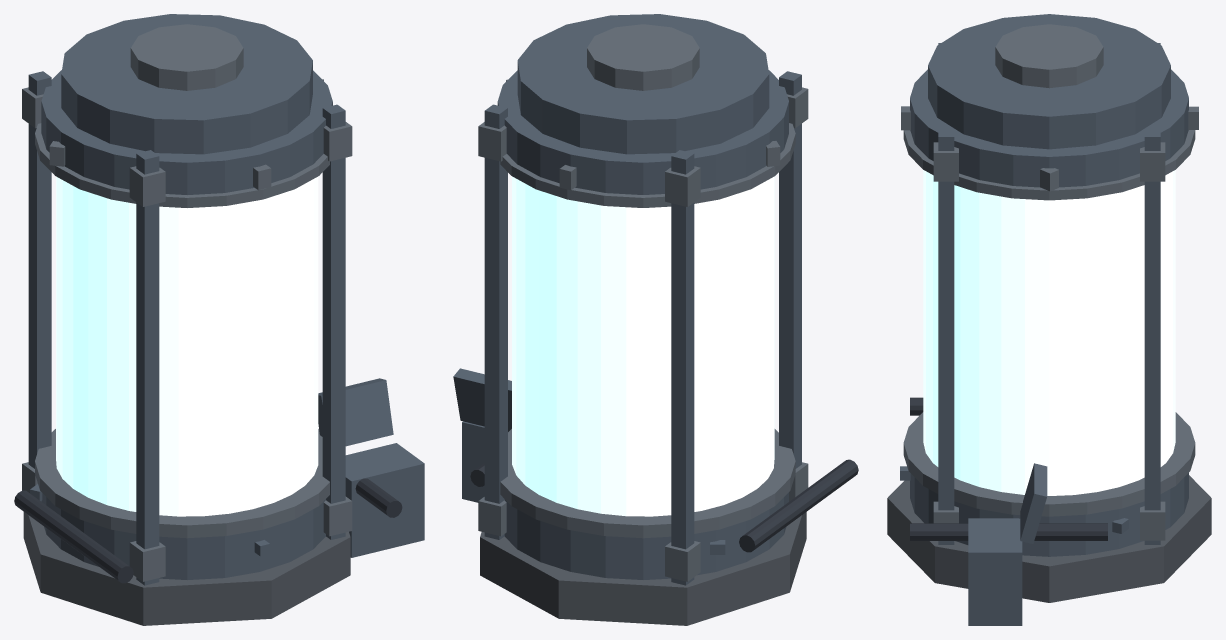
Rendered from Lab_Containment_A.fbx.
The picture shows the model from 3 angles, left to right: view 1: azimuth 30°, elevation 25°; view 2: azimuth 150°, elevation 25°; view 3: azimuth 270°, elevation 25°; orthographic projection. The views are drawn at different scales.
Visible parts, largest first — view 1: Lab_Aeron_Chamber; view 2: Lab_Aeron_Chamber; view 3: Lab_Aeron_Chamber.
Part boxes in pixels (x1,y1,x2,y2): Lab_Aeron_Chamber: [14, 14, 424, 625]; Lab_Aeron_Chamber: [453, 14, 858, 625]; Lab_Aeron_Chamber: [887, 14, 1211, 625].
Bounding box in the file's own units: 4.2 × 5.97 × 3.6.
